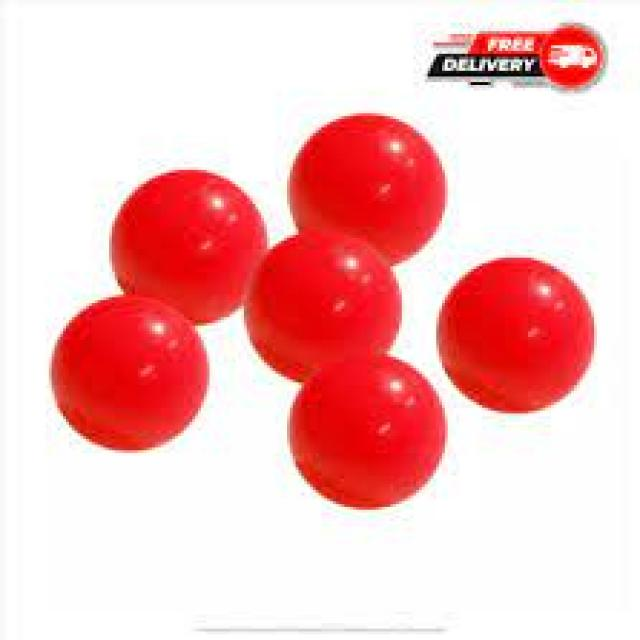hatball: (434, 251, 609, 422), (102, 160, 271, 327), (282, 358, 457, 517), (286, 107, 456, 269), (48, 292, 209, 457), (240, 231, 409, 377)
